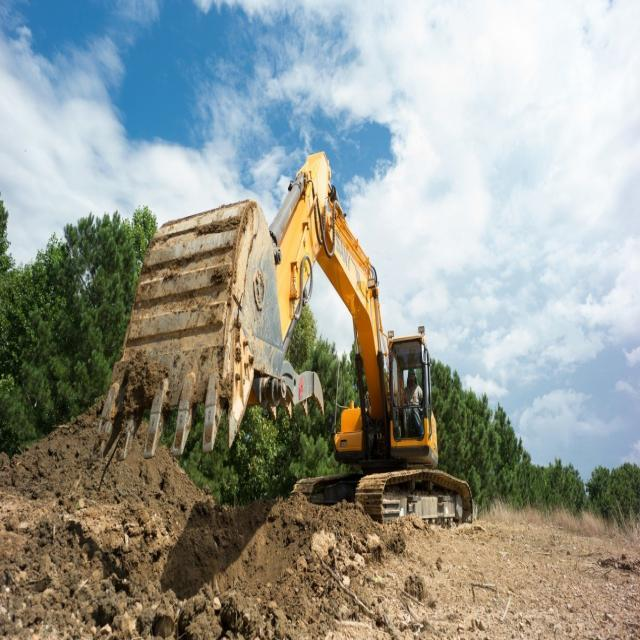C_E: (87, 147, 477, 531)
